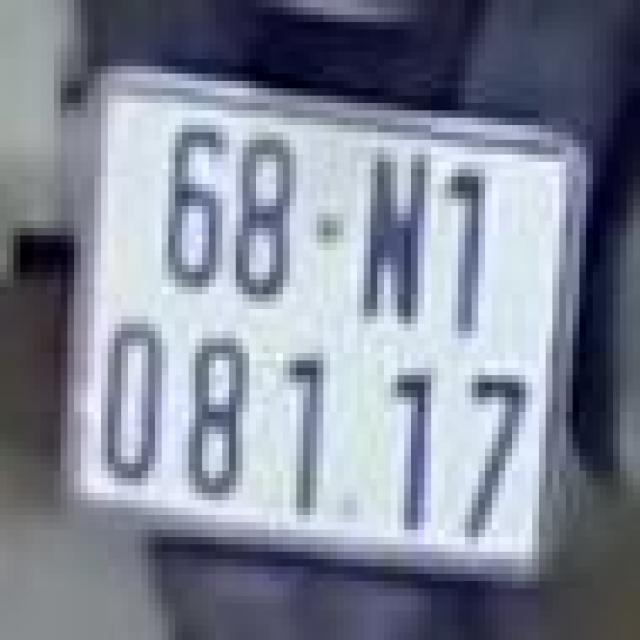1: (438, 147, 498, 346), (381, 353, 441, 537), (280, 346, 334, 530)
6: (152, 118, 226, 287)
7: (452, 357, 532, 548)
8: (91, 309, 165, 508), (226, 129, 306, 305), (178, 316, 246, 500)
N: (350, 136, 431, 320)
